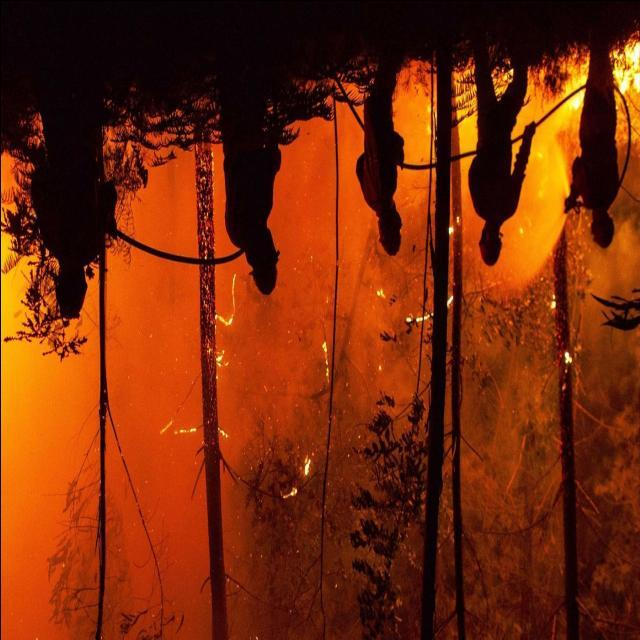Fire: (426, 36, 638, 228)
